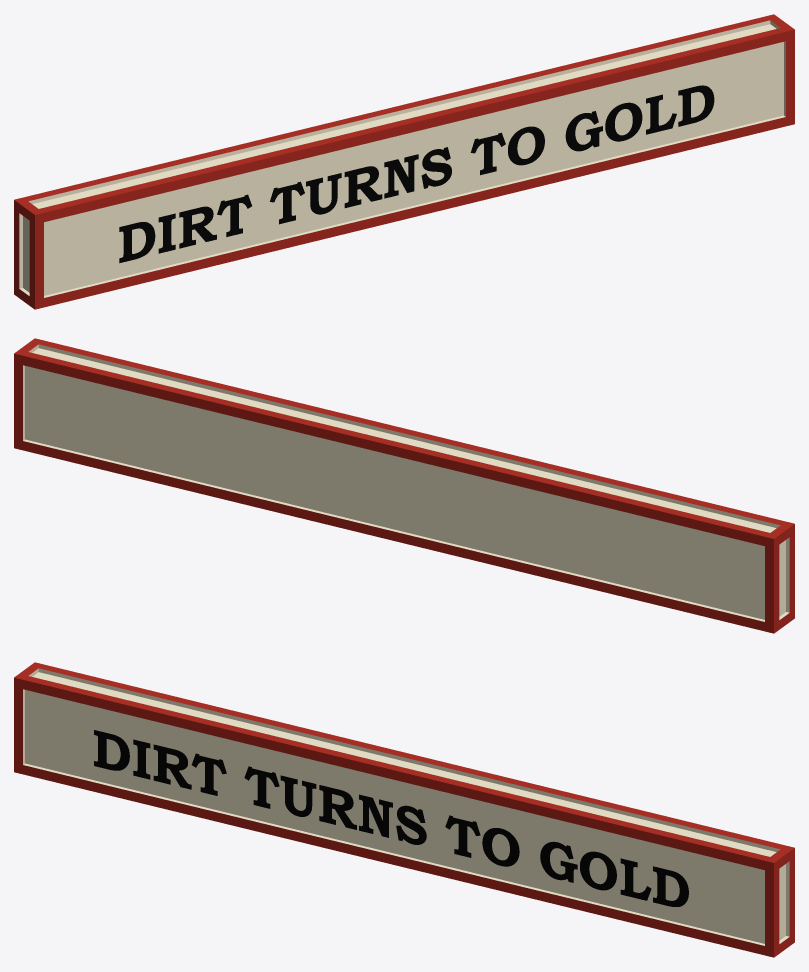
The model's file is dirtTurnsToGold.glb.
3 renders of one model, top to bottom at view 1: azimuth 30°, elevation 25°; view 2: azimuth 150°, elevation 25°; view 3: azimuth 330°, elevation 25°, orthographic.
Parts seen in each view (by area): view 1: ButtonBase, ButtonText; view 2: ButtonBase; view 3: ButtonBase, ButtonText.
Part boxes in pixels (x1=…): ButtonBase: x1=14, y1=14, x2=794, y2=309; ButtonText: x1=119, y1=85, x2=714, y2=263; ButtonBase: x1=14, y1=338, x2=794, y2=633; ButtonBase: x1=14, y1=662, x2=794, y2=957; ButtonText: x1=94, y1=730, x2=688, y2=906.
Size of the model in its own units: 10.5 by 1.25 by 0.5538.
